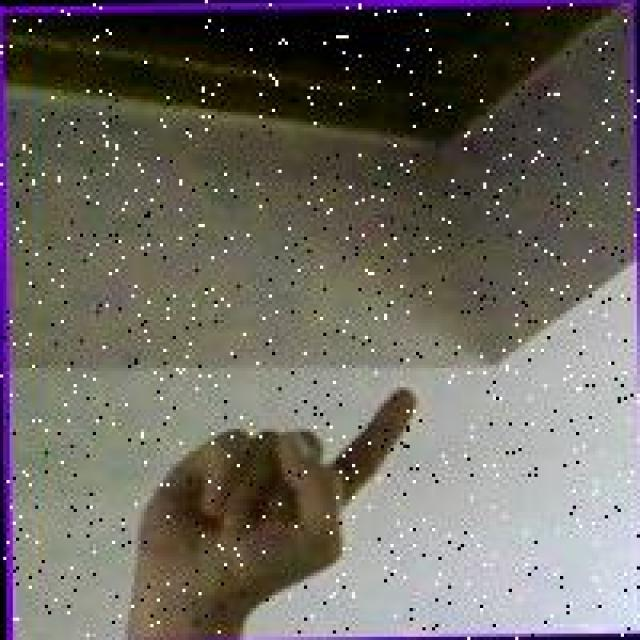Z: (130, 384, 420, 586)
